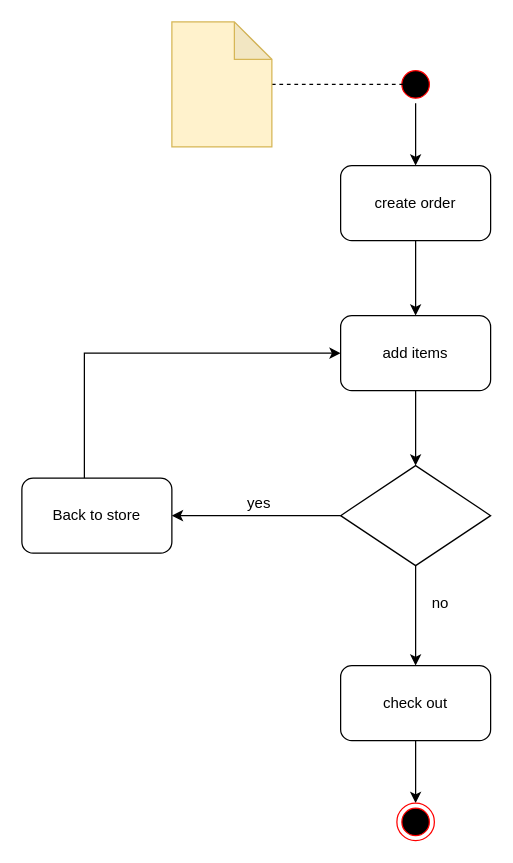
This 513x863 diagram has some shape labels left out. Each missing label, with the box of its shape:
countinue: (339, 464, 491, 566)
User Logged: (171, 21, 272, 147)
